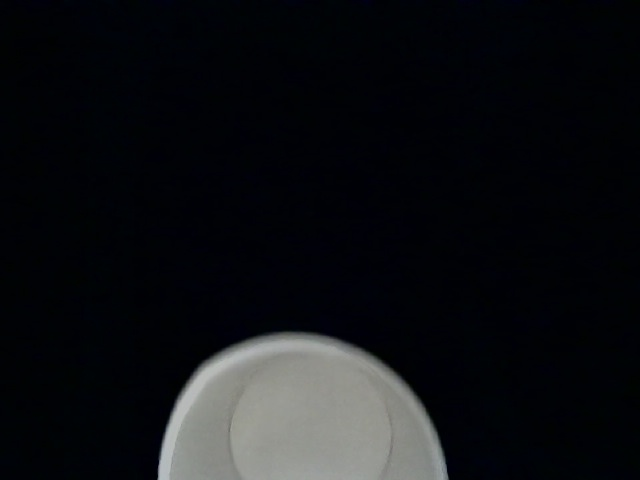KHSLJ: (82, 305, 584, 480)
